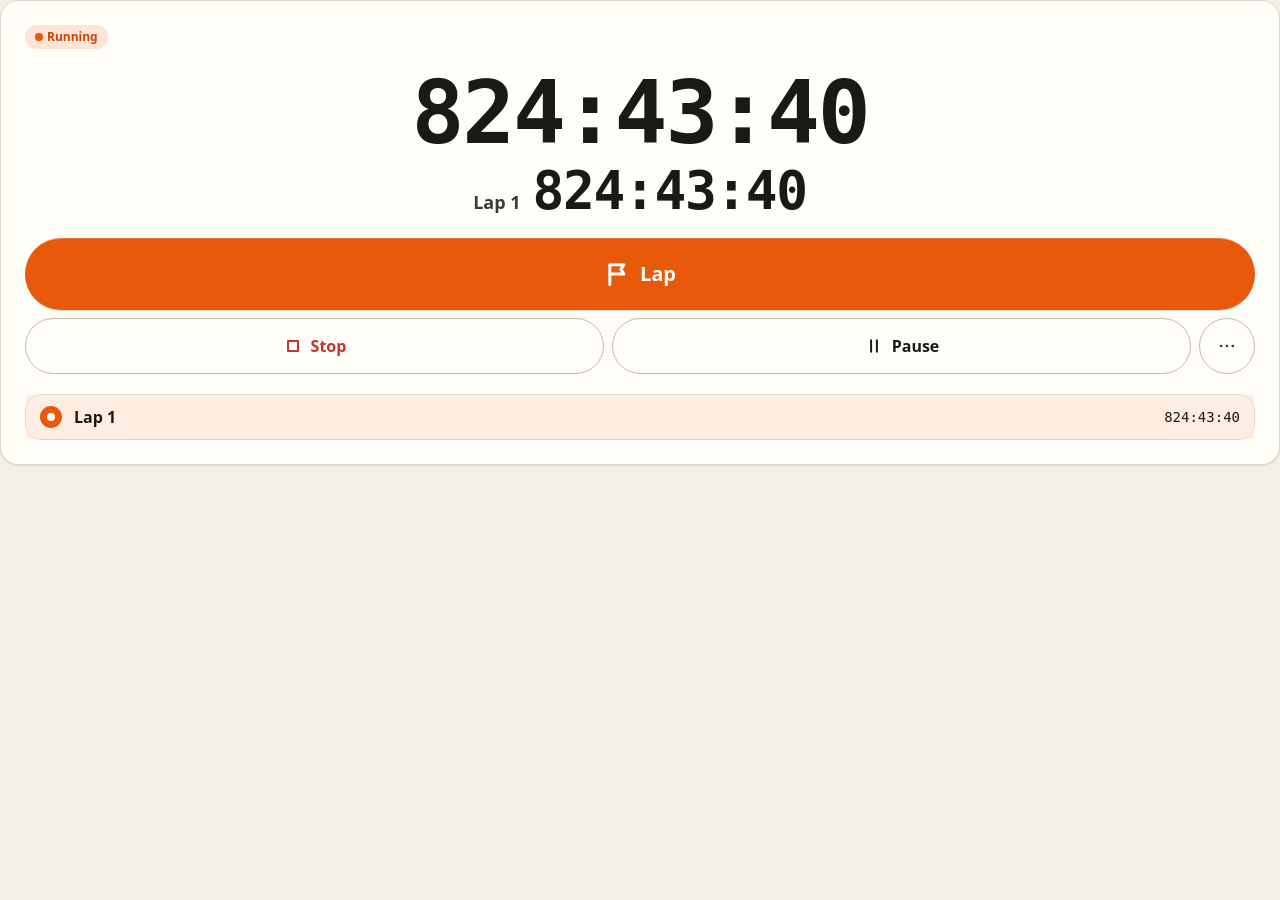
Test: the run panel › a run never reopened keeps "Discard run…"
What coordinates should you click on to do the following:
click the button with test id "run-more"
I would click on:
 (1227, 346)
Its box is [1199, 318, 1255, 374].
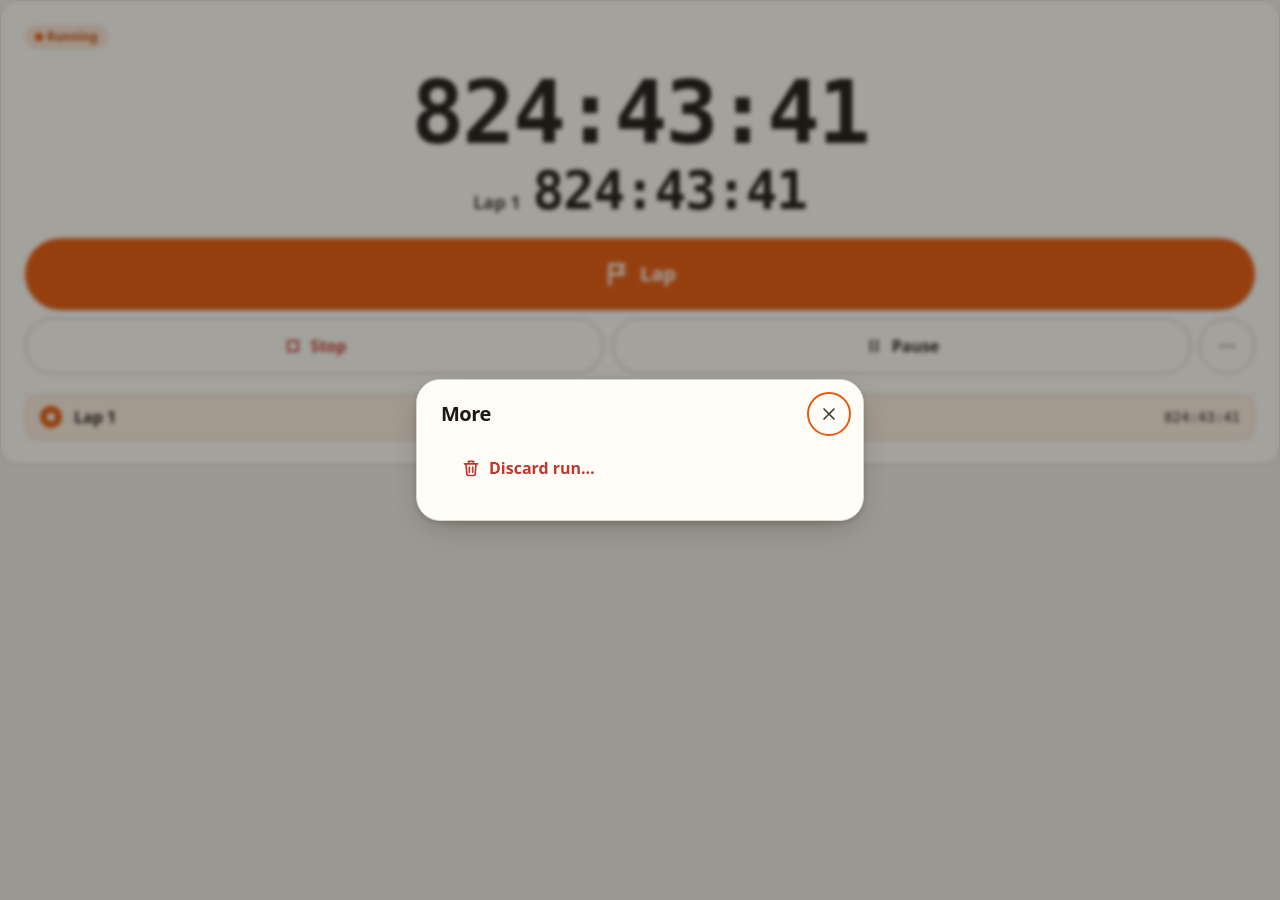
Now the button with test id "run-discard" is shown, box [441, 440, 839, 496]
